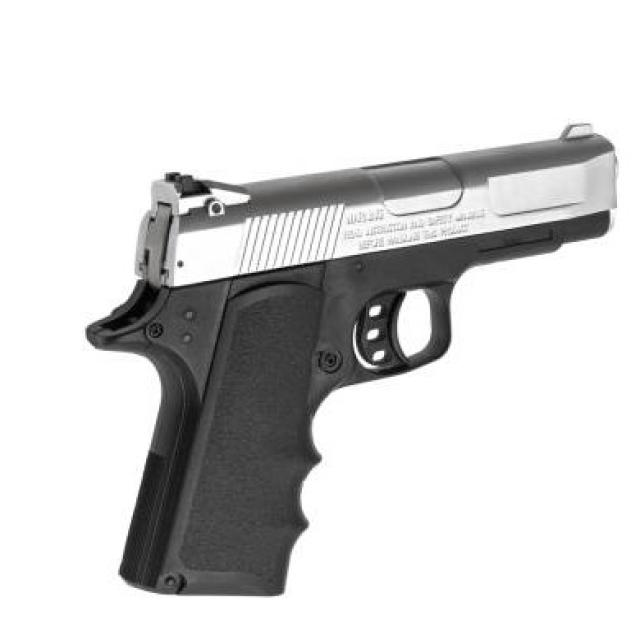pistol: (81, 116, 626, 607)
